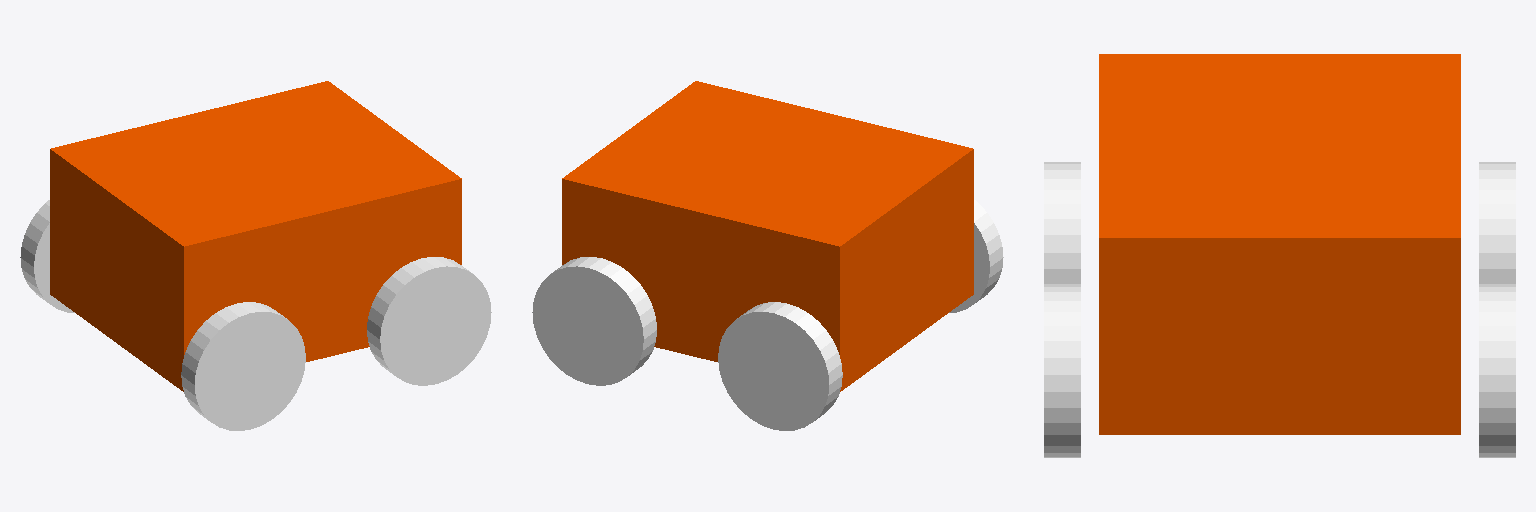
The robot description file, URDF, robot "abot":
<?xml version="1.0"?>
<robot name="abot"> 
<!--********************************xxxxxxxxx********************************-->
<!--********************************base_link********************************-->
	<link name="base_link">
		<visual>
		<origin xyz="0 0 0" rpy="0 0 0"/>
		<geometry>
			<box size="0.30 0.25 0.15"/>
		</geometry>
			<material name="yellow">
				<color rgba="1 0.4 0 0.5"/>
			</material>
		</visual>
		<collision>
			<origin xyz="0 0 0" rpy="0 0 0"/>
			<geometry>
			<box size="0.30 0.25 0.15"/>
			</geometry>
		</collision>
		<inertial>
			<mass value="1"/>
			<inertia ixx="0.009375" ixy="0.0" ixz="0.0" iyy="0.012708333" iyz="0.0" izz="0.0070833333"/>
		</inertial>
	</link>
	<gazebo reference="laser_link">
	<material>Gazebo/Gray</material>
	</gazebo>
<!--********************************left_front_link********************************-->
	<link name="left_front_link">
		<visual>
			<origin xyz="0 0 0" rpy="1.5707 0 0"/>
			<geometry>
				<cylinder radius="0.06" length="0.025"/>
			</geometry>
			<material name="white">
				<color rgba="1 1 1 0.9"/>
			</material>
		</visual>
		<collision>
			<origin xyz="0 0 0" rpy="1.5707 0 0"/>
			<geometry>
				<cylinder radius="0.06" length="0.025"/>
			</geometry>
		</collision>
		<inertial>
			<mass value="2"/>
			<inertia ixx="0.00190416666" ixy="0.0" ixz="0.0" iyy="0.00190416666" iyz="0.0" izz="0.0036"/>
		</inertial>
	</link>
	<gazebo reference="left_front_link">
	<material>Gazebo/Black</material>
	</gazebo>
<!--********************************left_front_joint********************************-->
	<joint name="left_front_joint" type="continuous">
		<origin xyz="0.10 0.15 -0.05" rpy="0 0 0"/>
		<parent link="base_link"/>
		<child link="left_front_link"/>
		<axis xyz="0 1 0"/>
	</joint>
<!--********************************left_back_link********************************-->
	<link name="left_back_link">
		<visual>
			<origin xyz="0 0 0" rpy="1.5707 0 0"/>
			<geometry>
				<cylinder radius="0.06" length="0.025"/>
			</geometry>
			<material name="white">
				<color rgba="1 1 1 0.9"/>
			</material>
		</visual>
		<collision>
			<origin xyz="0 0 0" rpy="1.5707 0 0"/>
			<geometry>
				<cylinder radius="0.06" length="0.025"/>
			</geometry>
		</collision>
		<inertial>
			<mass value="2"/>
			<inertia ixx="0.00190416666" ixy="0.0" ixz="0.0" iyy="0.00190416666" iyz="0.0" izz="0.0036"/>
		</inertial>
	</link>
	<gazebo reference="left_back_link">
	<material>Gazebo/Black</material>
	</gazebo>
<!--********************************left_back_joint********************************-->
	<joint name="left_back_joint" type="continuous">
		<origin xyz="-0.10 0.15 -0.05" rpy="0 0 0"/>
		<parent link="base_link"/>
		<child link="left_back_link"/>
		<axis xyz="0 1 0"/>
	</joint>
<!--********************************right_front_link********************************-->
	<link name="right_front_link">
		<visual>
			<origin xyz="0 0 0" rpy="1.5707 0 0"/>
			<geometry>
				<cylinder radius="0.06" length="0.025"/>
			</geometry>
			<material name="white">
				<color rgba="1 1 1 0.9"/>
			</material>
		</visual>
		<collision>
			<origin xyz="0 0 0" rpy="1.5707 0 0"/>
			<geometry>
				<cylinder radius="0.06" length="0.025"/>
			</geometry>
		</collision>
		<inertial>
			<mass value="2"/>
			<inertia ixx="0.00190416666" ixy="0.0" ixz="0.0" iyy="0.00190416666" iyz="0.0" izz="0.0036"/>
		</inertial>
	</link>
	<gazebo reference="right_front_link">
	<material>Gazebo/Black</material>
	</gazebo>
<!--********************************right_front_joint********************************-->
	<joint name="right_front_joint" type="continuous">
		<origin xyz="0.10 -0.15 -0.05" rpy="0 0 0"/>
		<parent link="base_link"/>
		<child link="right_front_link"/>
		<axis xyz="0 1 0"/>
	</joint>
<!--********************************right_back_link********************************-->
	<link name="right_back_link">
		<visual>
			<origin xyz="0 0 0" rpy="1.5707 0 0"/>
			<geometry>
				<cylinder radius="0.06" length="0.025"/>
			</geometry>
			<material name="white">
				<color rgba="1 1 1 0.9"/>
			</material>
		</visual>
		<collision>
			<origin xyz="0 0 0" rpy="1.5707 0 0"/>
			<geometry>
				<cylinder radius="0.06" length="0.025"/>
			</geometry>
		</collision>
		<inertial>
			<mass value="2"/>
			<inertia ixx="0.00190416666" ixy="0.0" ixz="0.0" iyy="0.00190416666" iyz="0.0" izz="0.0036"/>
		</inertial>
	</link>
	<gazebo reference="right_back_link">
	<material>Gazebo/Black</material>
	</gazebo>
<!--********************************right_back_joint********************************-->
	<joint name="right_back_joint" type="continuous">
		<origin xyz="-0.10 -0.15 -0.05" rpy="0 0 0"/>
		<parent link="base_link"/>
		<child link="right_back_link"/>
		<axis xyz="0 1 0"/>
	</joint>
<!--*********************************base_footprint********************************** -->
	<link name="base_footprint">
		<visual>
			<origin xyz="0 0 0" rpy="0 0 0" />
			<geometry>
				<box size="0.001 0.001 0.001" />
			</geometry>
		</visual>
	</link>
	<gazebo reference="base_footprint_joint">
		<turnGravityOff>false</turnGravityOff>
	</gazebo>
<!--*********************************base_footprint_joint********************************** -->
	<joint name="base_footprint_joint" type="fixed">
		<origin xyz="0 0 0" rpy="0 0 0" />
		<parent link="base_footprint"/>
		<child link="base_link" />
	</joint>
<!--*********************************controller********************************** -->
	<gazebo>
		<plugin name="skid_steer_drive_controller" filename="libgazebo_ros_skid_steer_drive.so">

			<alwaysOn>true</alwaysOn>
			<robotNamespace>/</robotNamespace>
			<updateRate>100</updateRate>
			<leftFrontJoint>left_front_joint</leftFrontJoint>
			<rightFrontJoint>right_front_joint</rightFrontJoint>
			<leftRearJoint>left_back_joint</leftRearJoint>
			<rightRearJoint>right_back_joint</rightRearJoint>

			<wheelSeparation>0.200</wheelSeparation>
			<wheelDiameter>0.120</wheelDiameter>
			<torque>1</torque>
			<commandTopic>cmd_vel</commandTopic>
			<odometryTopic>odom</odometryTopic>
			<odometryFrame>odom</odometryFrame>
			<robotBaseFrame>base_footprint</robotBaseFrame>
			<broadcastTF>1</broadcastTF>
		</plugin>
	</gazebo>


</robot>

--- Render facts (derived) ---
3 views of the same robot in one strip: view 1: azimuth 30°, elevation 25°; view 2: azimuth 150°, elevation 25°; view 3: azimuth 270°, elevation 25° (orthographic).
Robot: abot — 6 links, 5 joints (4 continuous, 1 fixed); root link base_footprint; default pose: all joints at 0.
Visible links, largest first — view 1: base_link, right_back_link, right_front_link, left_back_link; view 2: base_link, left_back_link, left_front_link, right_back_link; view 3: base_link, left_front_link, right_front_link, left_back_link, right_back_link.
Link boxes in pixels (box(x1,y1,x2,y2)): base_link: box(50, 81, 461, 391); right_back_link: box(181, 302, 305, 430); right_front_link: box(367, 257, 491, 385); left_back_link: box(20, 200, 74, 312); base_link: box(562, 81, 973, 391); left_back_link: box(718, 302, 842, 430); left_front_link: box(532, 257, 656, 385); right_back_link: box(949, 200, 1003, 312); base_link: box(1099, 54, 1460, 434); left_front_link: box(1479, 284, 1515, 457); right_front_link: box(1044, 284, 1080, 457); left_back_link: box(1479, 162, 1515, 283); right_back_link: box(1044, 162, 1080, 283).
Bounding box of the posed robot: 0.32 × 0.325 × 0.185 m (x, y, z).
Geometry: primitives only (box / cylinder / sphere), no mesh files.